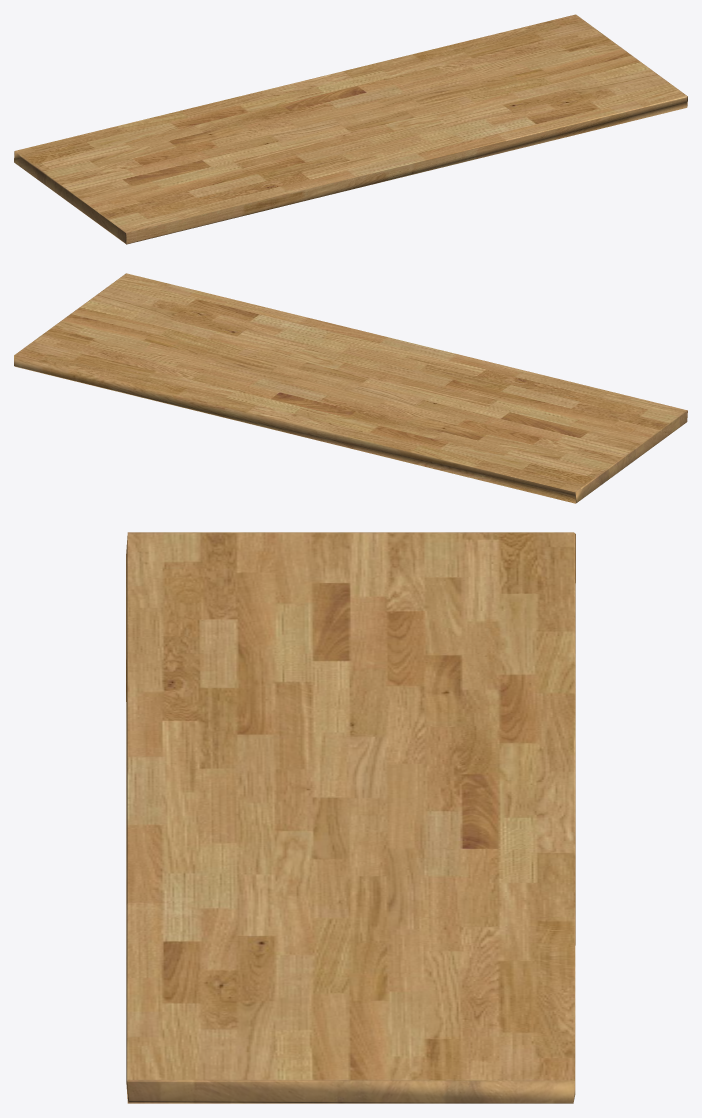
The model's file is KARLBY_70335207.glb.
3 renders of one model, top to bottom at view 1: azimuth 30°, elevation 25°; view 2: azimuth 150°, elevation 25°; view 3: azimuth 270°, elevation 25°, orthographic. The views are drawn at different scales.
Parts seen in each view (by area): view 1: ProcessedMeshNode; view 2: ProcessedMeshNode; view 3: ProcessedMeshNode.
Boxes of the visible parts, <box> form: ProcessedMeshNode: <box>14,14,687,244</box>; ProcessedMeshNode: <box>14,273,687,503</box>; ProcessedMeshNode: <box>126,532,575,1103</box>.
Bounding box in the file's own units: 1.88 × 0.0386 × 0.6513.
Materials: 1 (1 with a texture image).
